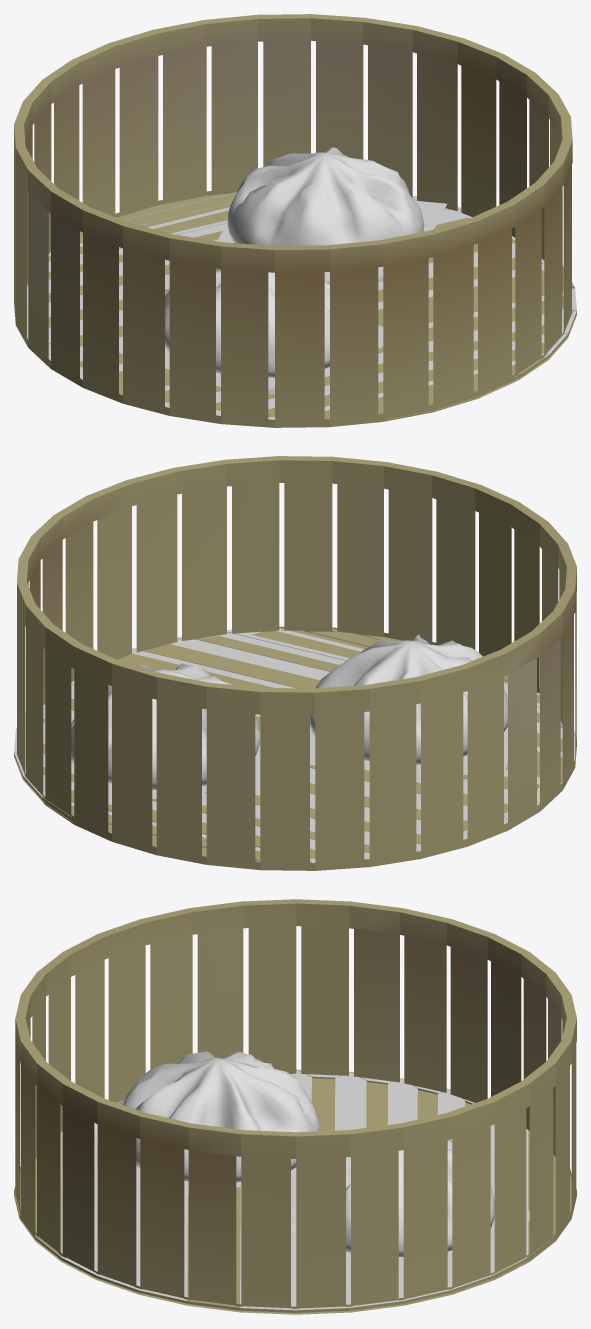
File: cha-siu-bao.gltf
3 renders of one model, top to bottom at view 1: azimuth 30°, elevation 25°; view 2: azimuth 150°, elevation 25°; view 3: azimuth 270°, elevation 25°, orthographic.
Visible parts, largest first — view 1: Cylinder.008, chasiubao1, chasiubao2, Plane.007, Plane.011; view 2: Cylinder.008, chasiubao2, chasiubao1, Plane.011; view 3: Cylinder.008, chasiubao2, chasiubao1, Plane.007.
Part boxes in pixels (left/top/right/bottom): Cylinder.008: left=14, top=14, right=576, bottom=427; chasiubao1: left=227, top=147, right=424, bottom=245; chasiubao2: left=165, top=268, right=329, bottom=377; Plane.007: left=217, top=201, right=446, bottom=281; Plane.011: left=119, top=325, right=383, bottom=394; Cylinder.008: left=14, top=456, right=576, bottom=870; chasiubao2: left=310, top=634, right=507, bottom=764; chasiubao1: left=71, top=663, right=259, bottom=789; Plane.011: left=310, top=675, right=507, bottom=774; Cylinder.008: left=14, top=899, right=576, bottom=1314; chasiubao2: left=123, top=1051, right=319, bottom=1182; chasiubao1: left=346, top=1140, right=494, bottom=1256; Plane.007: left=291, top=1198, right=529, bottom=1279.
Size of the model in its own units: 14.33 by 4.98 by 14.26.
